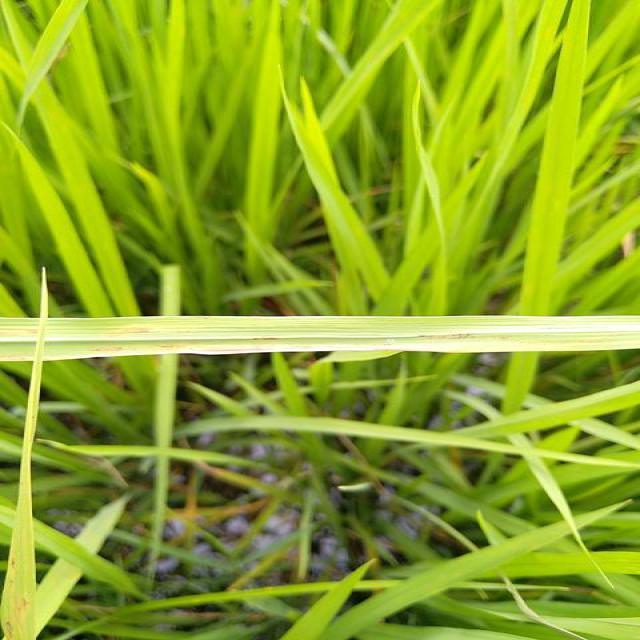Leaf Streak: (91, 343, 197, 353), (209, 336, 293, 343), (420, 334, 475, 340), (115, 327, 151, 335)
